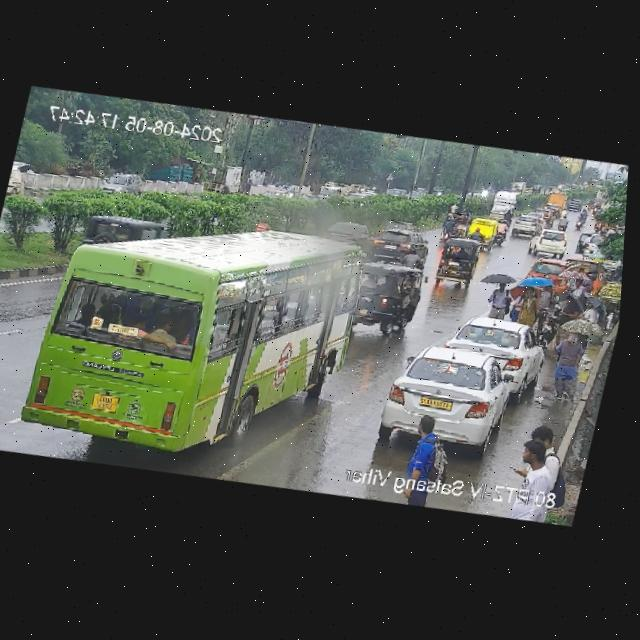bus: (23, 186, 375, 445)
car: (379, 334, 528, 455), (444, 308, 549, 386), (346, 256, 429, 342), (431, 234, 481, 290), (368, 225, 431, 269), (525, 251, 572, 289), (97, 167, 145, 203), (320, 216, 372, 248), (570, 227, 610, 263), (527, 225, 571, 257), (465, 215, 502, 243), (342, 184, 382, 209), (507, 214, 542, 240), (383, 184, 409, 201), (532, 207, 555, 224), (565, 197, 583, 213), (527, 181, 543, 196)
motorcycle: (435, 215, 456, 245), (491, 218, 512, 246), (467, 226, 486, 245), (556, 214, 571, 233), (573, 211, 587, 229)
person: (504, 426, 576, 524), (386, 410, 455, 510), (546, 328, 593, 405), (509, 284, 544, 325), (485, 281, 514, 318), (576, 296, 605, 328)
truck: (486, 187, 519, 224), (543, 187, 569, 212)
